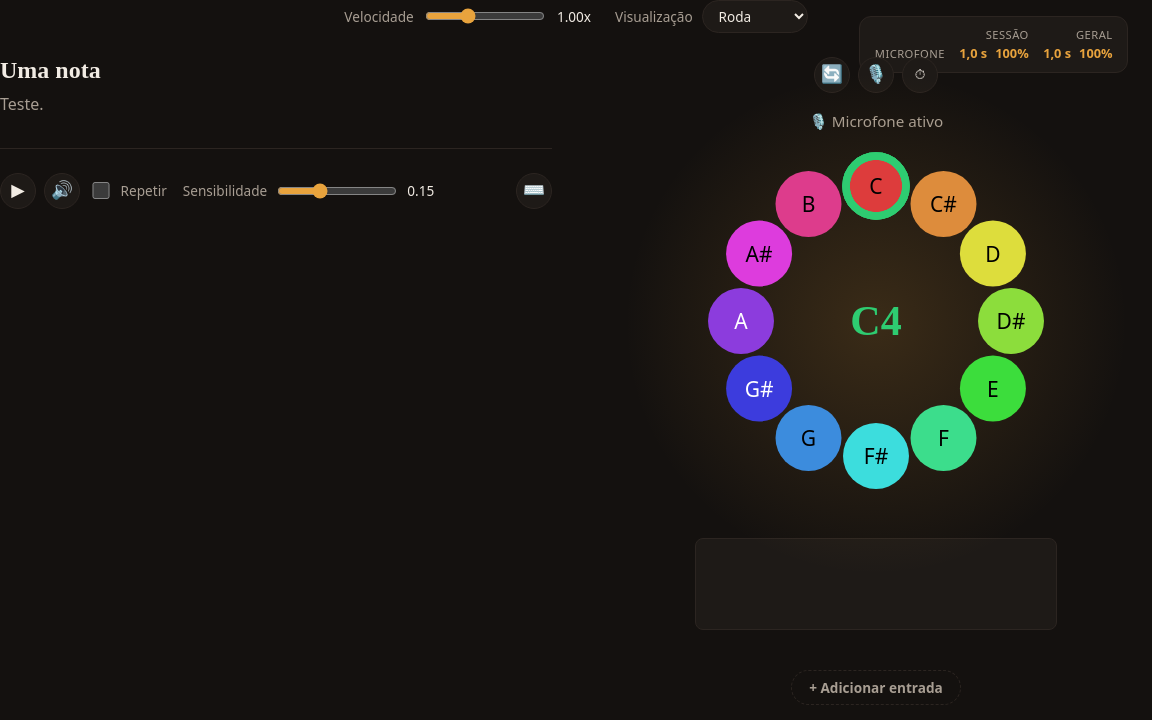
Test case: ExercisePlayer scoring › resets the session from the history dialog, keeping the overall score
Press h
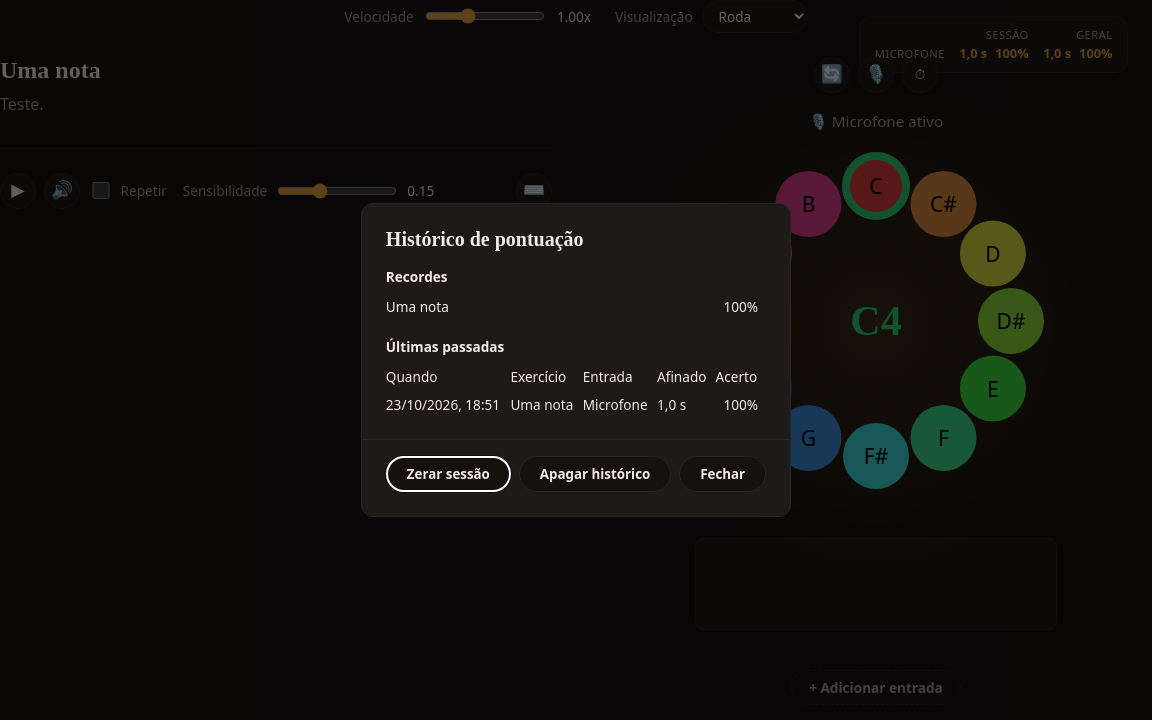
Click the button "Zerar sessão" at (448, 474), box [386,456,511,492]
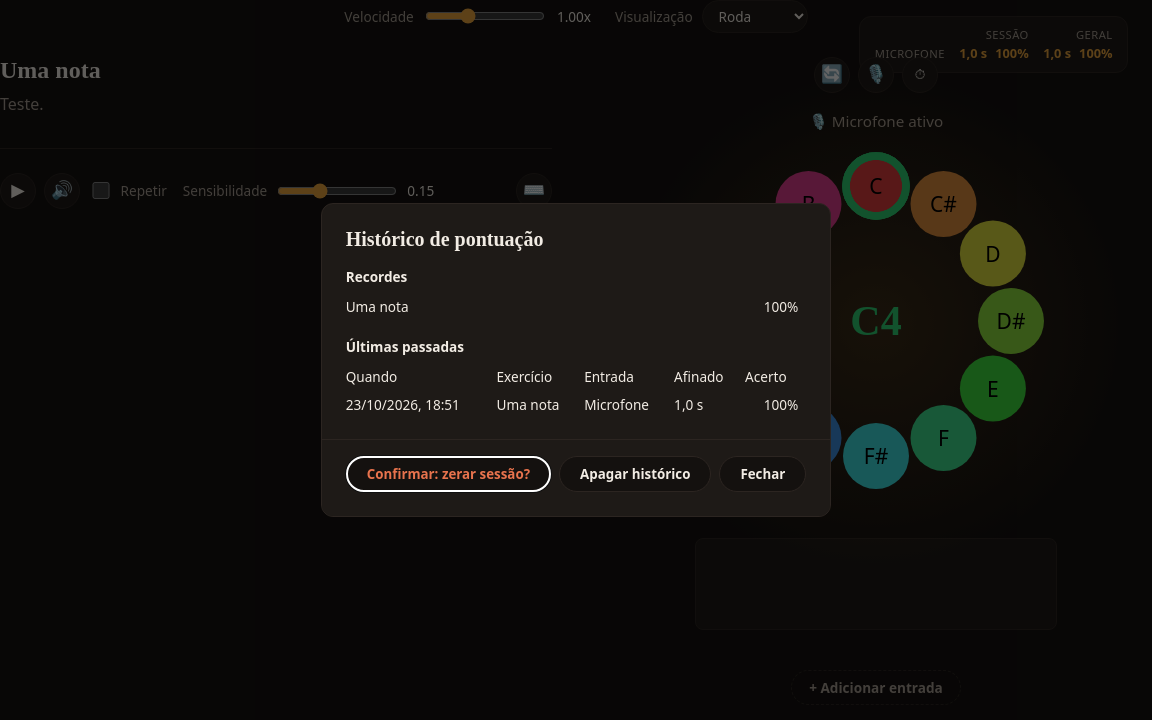
Click the button "Confirmar: zerar sessão?" at (448, 474), box [346,456,551,492]
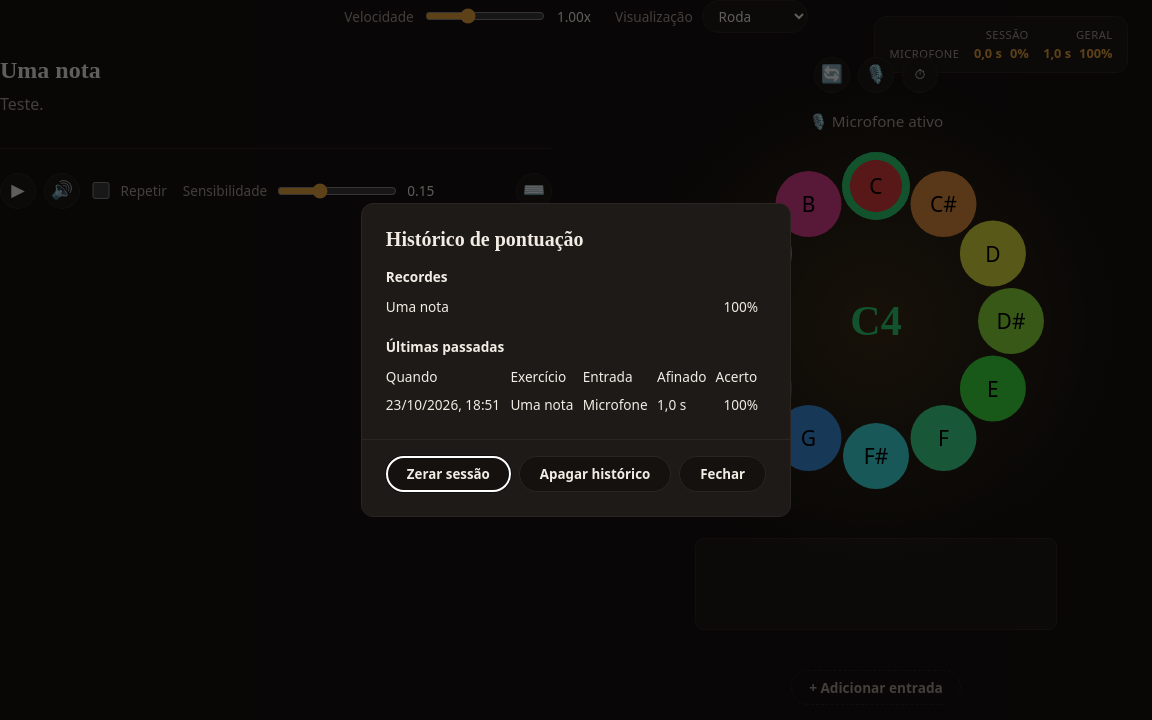
Expected: the text with test id "score-overall-percent-primary" reads "100%", [1079,44,1113,62]
Expected: the text with test id "score-session-time-primary" reads "0,0 s", [974,44,1002,62]
